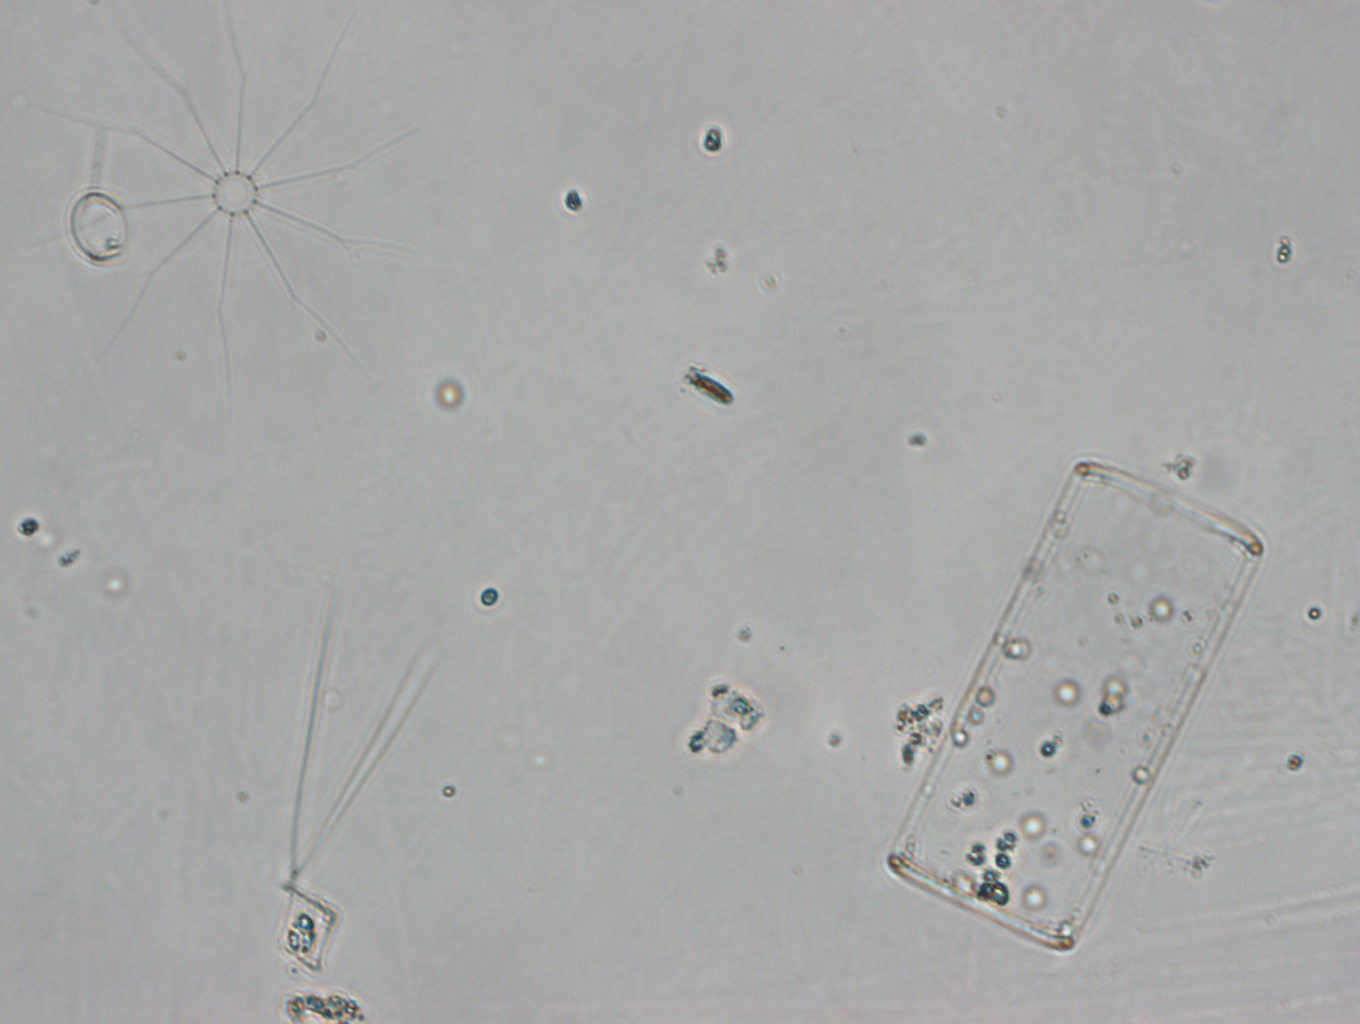bacteriastrum: (23, 12, 398, 382)
chaetoceros: (263, 603, 432, 990)
guinardia flaccida: (891, 455, 1266, 955)
